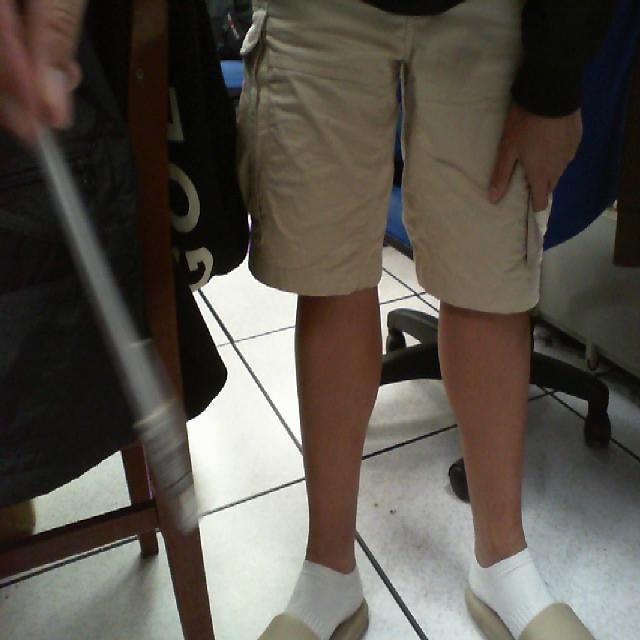Pen: (10, 51, 230, 576)
